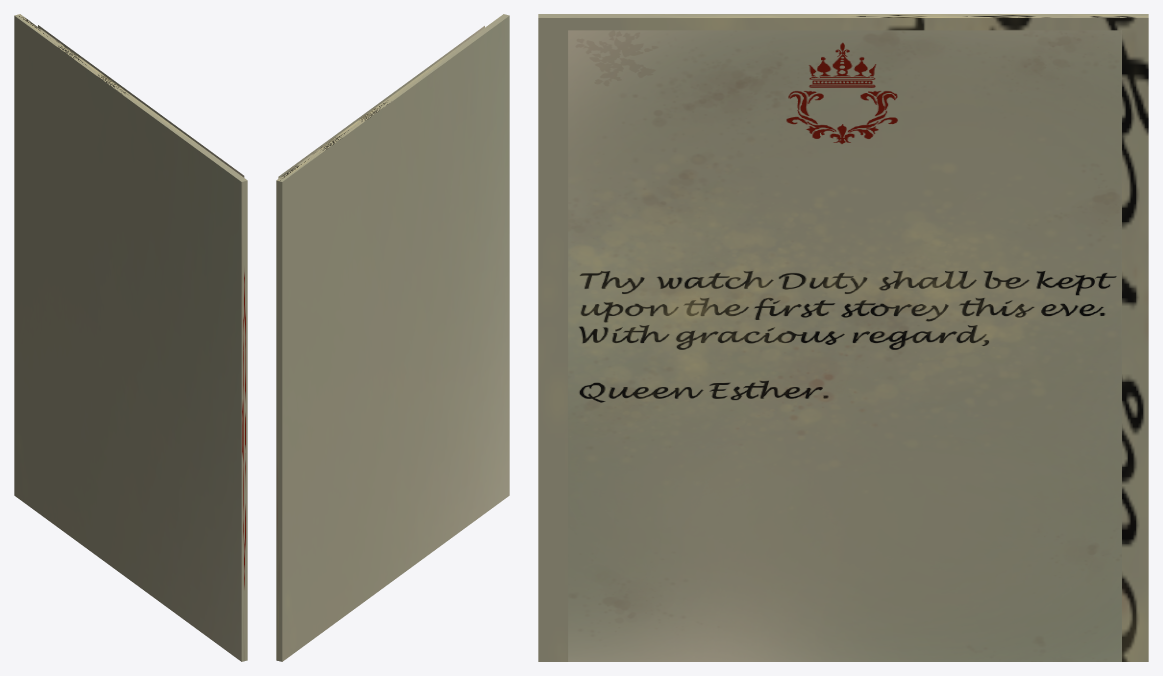
Rendered from queen message.fbx.
3 renders of one model, left to right at view 1: azimuth 30°, elevation 25°; view 2: azimuth 150°, elevation 25°; view 3: azimuth 270°, elevation 25°, orthographic. The views are drawn at different scales.
Parts seen in each view (by area): view 1: Plane; view 2: Plane; view 3: Plane.
Boxes of the visible parts, x1,y1,x2,y2 form: Plane: (14, 14, 247, 661); Plane: (276, 14, 509, 661); Plane: (538, 14, 1148, 661).
Size of the model in its own units: 7.03 by 233 by 200.
